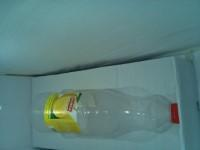bottle: (20, 89, 180, 140)
